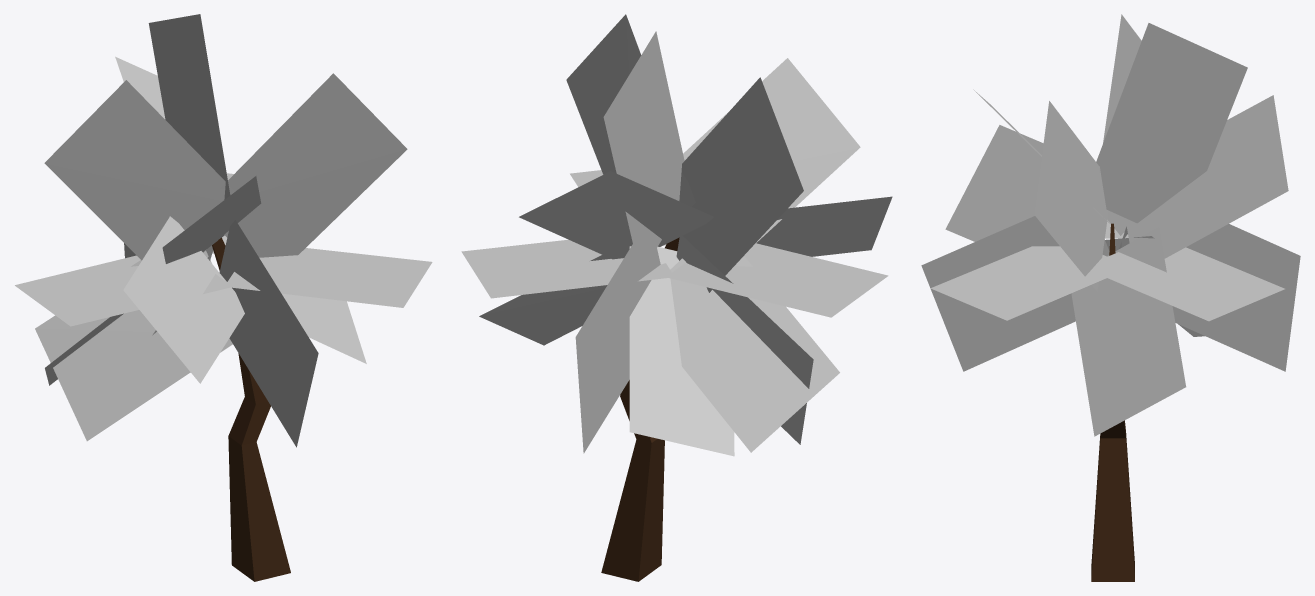
The model's file is model_loc_1302_8.obj.
3 views of the same model, side by side, from view 1: azimuth 30°, elevation 25°; view 2: azimuth 150°, elevation 25°; view 3: azimuth 270°, elevation 25° (orthographic). The views are drawn at different scales.
Parts seen in each view (by area): view 1: 1702; view 2: 1702; view 3: 1702.
Part boxes in pixels (x1,y1,x2,y2): 1702: [15, 14, 432, 581]; 1702: [461, 14, 892, 581]; 1702: [921, 14, 1300, 581].
Bounding box in the file's own units: 250 × 389 × 252.
